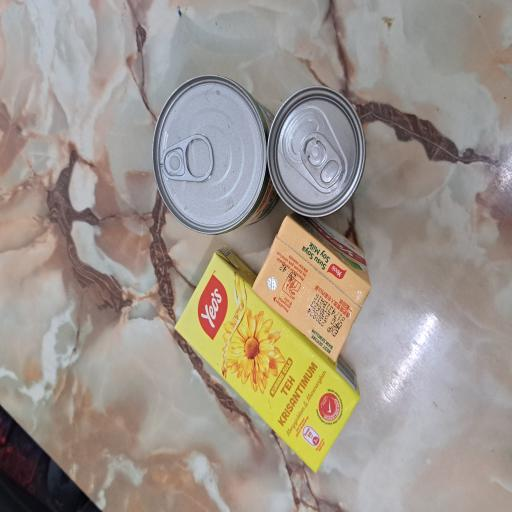can: (210, 201, 328, 374), (220, 355, 320, 489)
drink carton: (28, 228, 198, 480), (112, 334, 224, 492)
pop tab: (245, 216, 285, 288), (241, 398, 285, 459)
